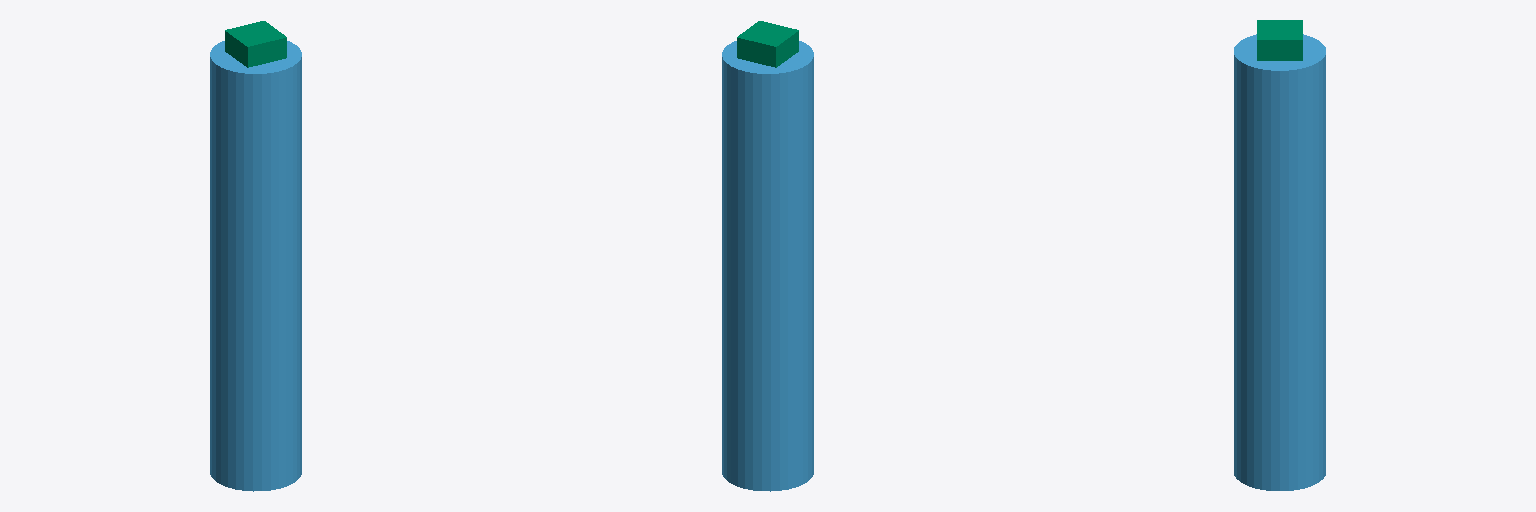
URDF robot description (gpsbox):
<?xml version="1.0" encoding="utf-8"?>
     
<robot name="gpsbox" 
	xmlns:xacro="http://ros.org/wiki/xacro">

<!--<xacro: property name="M_PI" value="3.1415926535897931" />
<xacro: property name="Radius_of_pole" value="1"/>
<xacro: property name="Height_of_pole" value="5"/>
<xacro: property name="Mass_of_pole" value="2"/>-->

<link name="dummy"> </link>
  
<link name="base_link">

	<collision>
		<origin xyz="0 0 0" rpy="0 0 0"/>
		<geometry>
			<cylinder length="0.5" radius="0.05"/>
		</geometry>
	</collision>
	<visual>
		<origin xyz="0 0 0" rpy="0 0 0"/>
		<geometry>
			<cylinder length="0.5" radius="0.05"/>
		</geometry>
		<material name="Gray"/>
	</visual>
	<inertial>
		<origin xyz="0 0 0" rpy="0 0 0"/>
		<mass value="2"/>
		<!--ixx="${Mass_of_pole*(3*Radius_of_pole*Radius_of_pole+Height_of_pole*Height_of_pole)/12}" ixy = "0" ixz = "0"
		    iyy="${Mass_of_pole*(3*Radius_of_pole*Radius_of_pole+Height_of_pole*Height_of_pole)/12}" iyz = "0"
		    izz="${Mass_of_pole*Radius_of_pole*Radius_of_pole/2}"-->
			<inertia ixx="0.0467" ixy = "0" ixz = "0"
			iyy="0.0467" iyz = "0"
			izz="0.01"/>
	</inertial>
</link>

<joint name="dummy_joint" type="fixed">
	<parent link="dummy"/>
	<child link="base_link"/>
</joint>

 <link name="gps_pole_link">
    <collision>
      <origin xyz="0 0 0" rpy="0 0 0"/>
      <geometry>
        <box size="0.05 0.05 0.05"/>
      </geometry>
    </collision>
    <visual>
      <origin xyz="0 0 0" rpy="0 0 0"/>
      <geometry>
        <box size="0.05 0.05 0.05"/>
      </geometry>
      <material name="Black"/>
    </visual>
  </link>

<joint name="gps_to_base_link" type="fixed">
    <origin xyz="0 0 0.25" rpy="0 0 0" />
        <parent link="base_link"/>
        <child link="gps_pole_link"/>
    </joint>

<gazebo reference="gps_pole_link">
  <material>Gazebo/Black</material>
</gazebo>
</robot>

--- Render facts (derived) ---
The picture shows the robot from 3 angles, left to right: view 1: azimuth 30°, elevation 25°; view 2: azimuth 150°, elevation 25°; view 3: azimuth 270°, elevation 25°; orthographic projection.
Robot: gpsbox — 3 links, 2 joints (2 fixed); root link dummy; default pose: all joints at 0.
Links seen in each view (by area): view 1: base_link, gps_pole_link; view 2: base_link, gps_pole_link; view 3: base_link, gps_pole_link.
Boxes of the visible links, x1,y1,x2,y2 form: base_link: (210, 41, 301, 491); gps_pole_link: (225, 21, 286, 67); base_link: (722, 41, 813, 491); gps_pole_link: (737, 21, 798, 67); base_link: (1234, 34, 1325, 490); gps_pole_link: (1257, 20, 1302, 60).
Size in the robot's own frame: 0.1 by 0.1 by 0.525 metres.
Geometry: primitives only (box / cylinder / sphere), no mesh files.